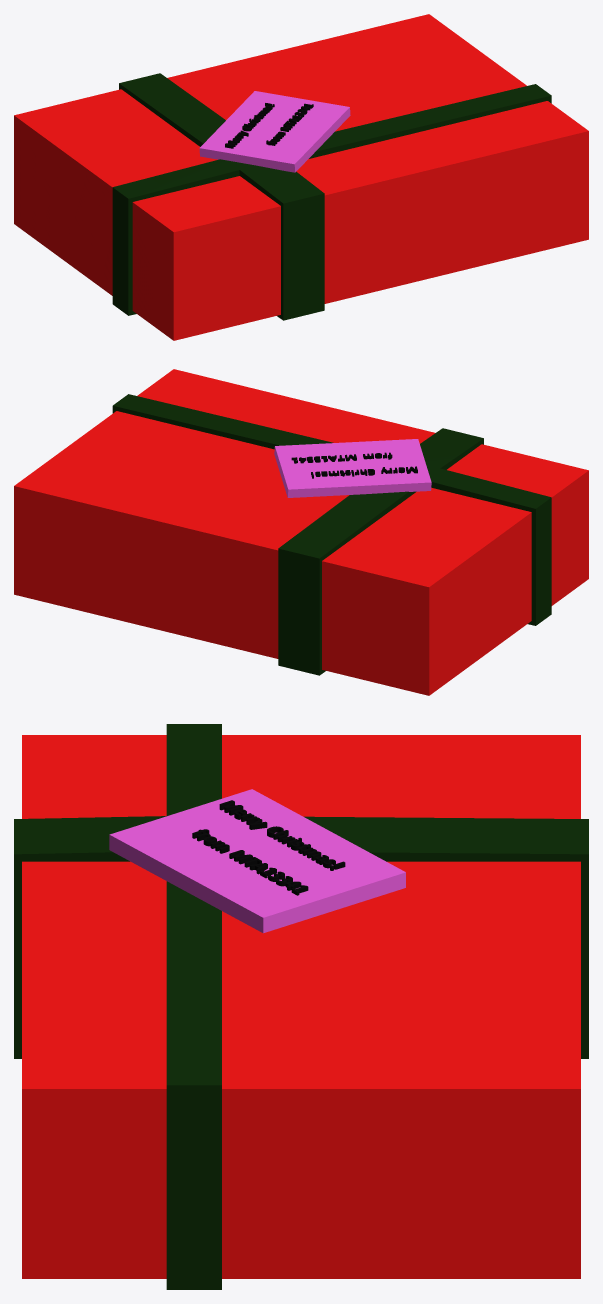
Rendered from present_greenred.FBX.
3 renders of one model, top to bottom at view 1: azimuth 30°, elevation 25°; view 2: azimuth 150°, elevation 25°; view 3: azimuth 270°, elevation 25°, orthographic. The views are drawn at different scales.
Visible parts, largest first — view 1: Box001, Object001, Box002, Object002, Text001; view 2: Box001, Object001, Box002, Object002, Text001; view 3: Box001, Object001, Box002, Object002, Text001.
Part boxes in pixels (<box>): Box001: <box>14,14,588,340</box>; Object001: <box>112,73,551,320</box>; Box002: <box>199,91,350,172</box>; Object002: <box>119,83,551,320</box>; Text001: <box>225,103,313,148</box>; Box001: <box>14,369,588,695</box>; Object001: <box>113,394,551,675</box>; Box002: <box>274,439,431,497</box>; Object002: <box>112,406,535,675</box>; Text001: <box>291,452,417,478</box>; Box001: <box>22,735,580,1278</box>; Object001: <box>14,724,588,1289</box>; Box002: <box>109,789,405,933</box>; Object002: <box>14,852,588,1058</box>; Text001: <box>192,800,345,895</box>.
Bounding box in the file's own units: 122 × 36.32 × 82.34.
